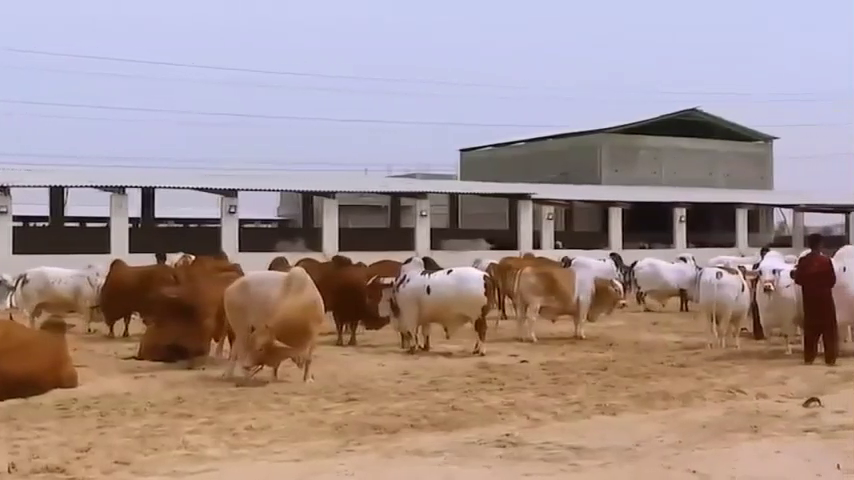bo: (218, 265, 336, 391), (382, 251, 503, 366), (508, 251, 634, 357), (13, 244, 111, 346), (297, 245, 391, 345), (131, 268, 222, 371), (100, 235, 182, 336), (8, 312, 88, 404), (691, 256, 752, 361), (746, 247, 799, 362), (630, 252, 700, 317), (824, 235, 854, 359), (2, 265, 16, 309)
